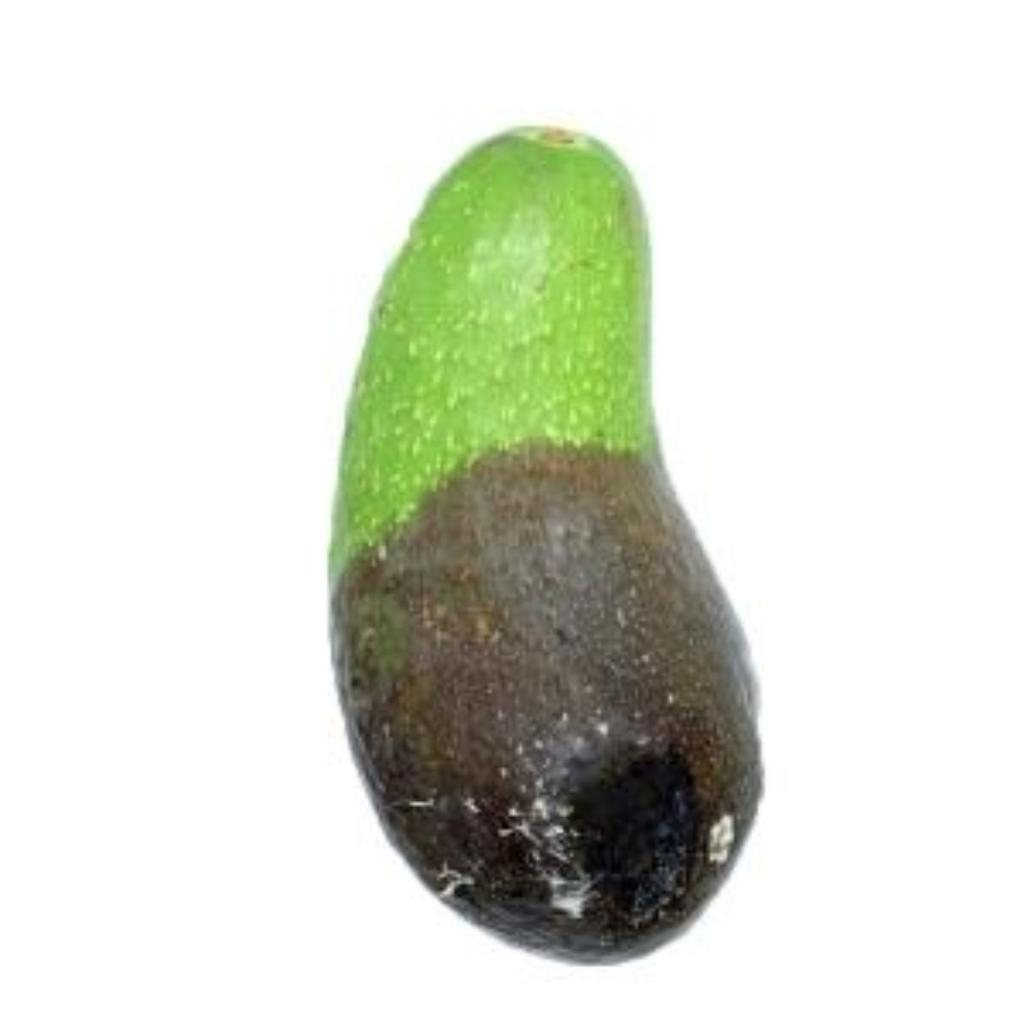cercospora_spot: (246, 94, 864, 988)
